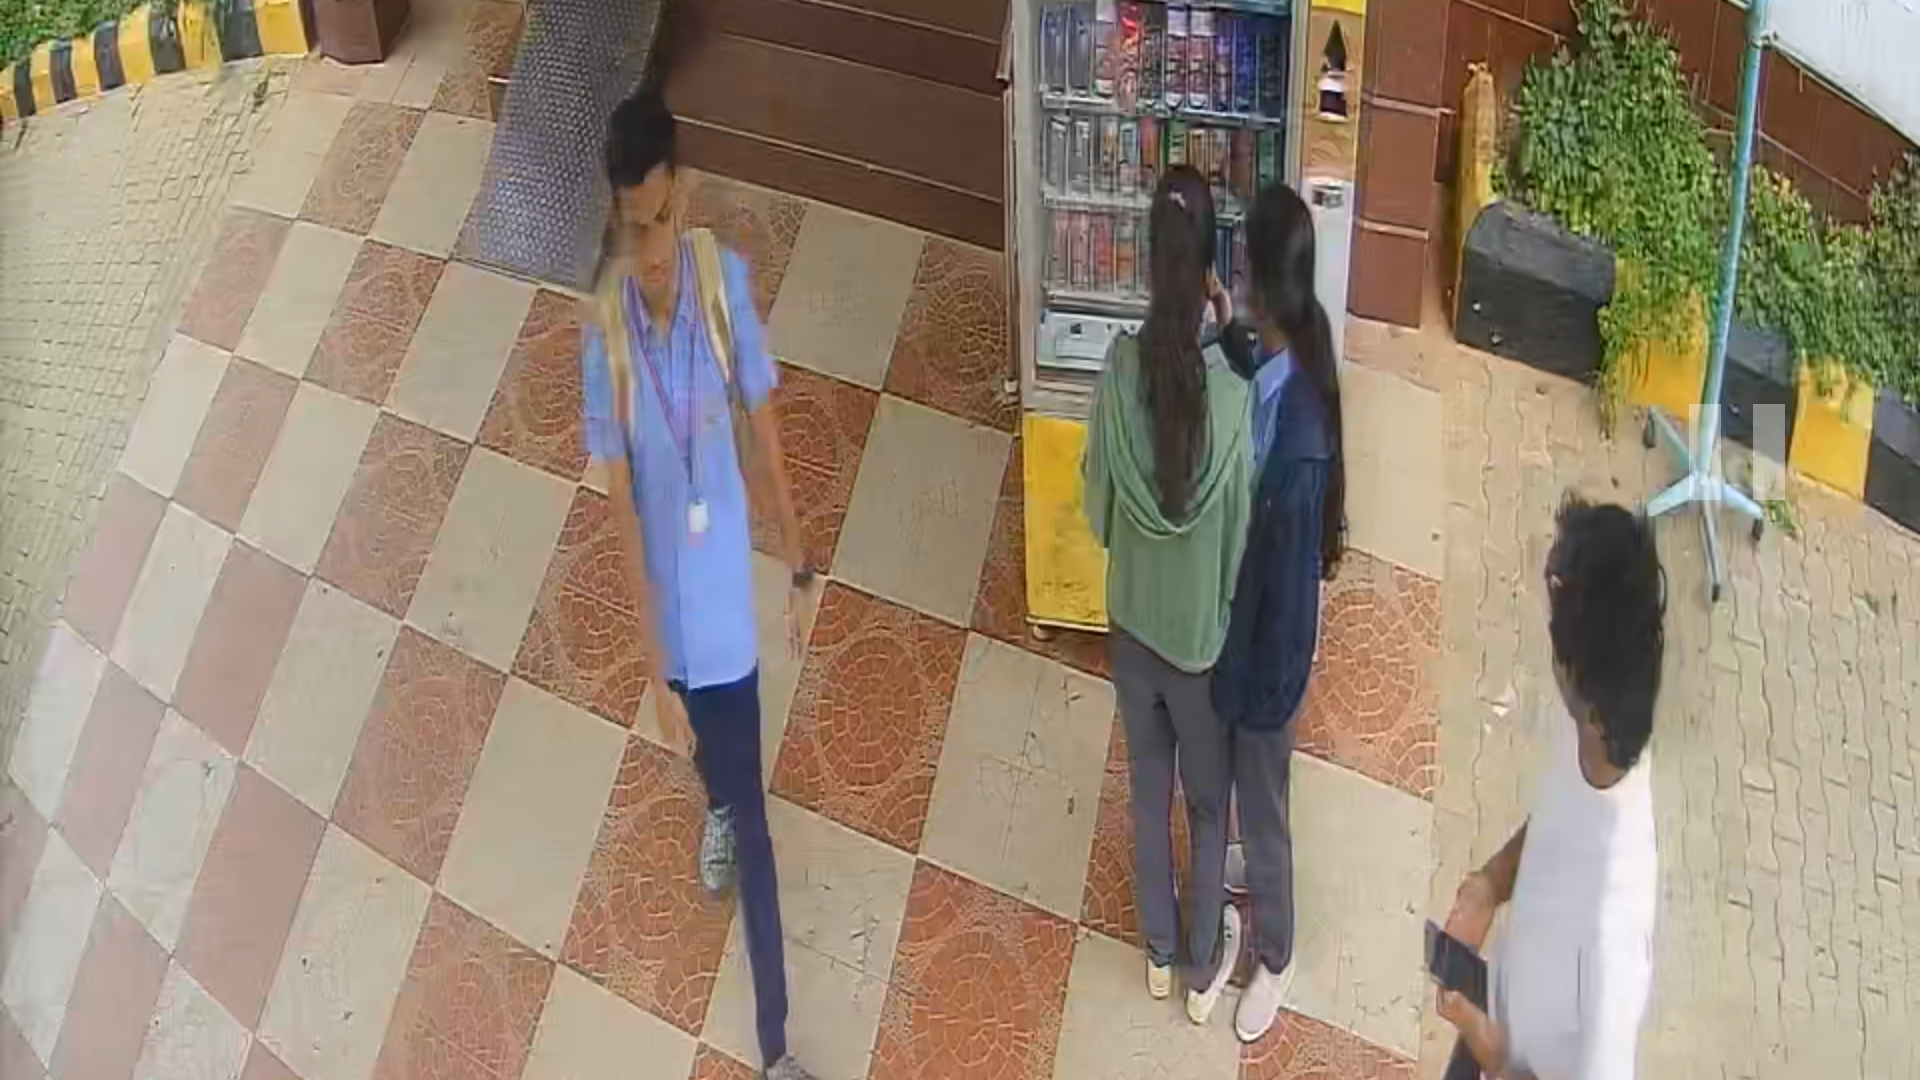not intruder: (563, 96, 832, 1080)
